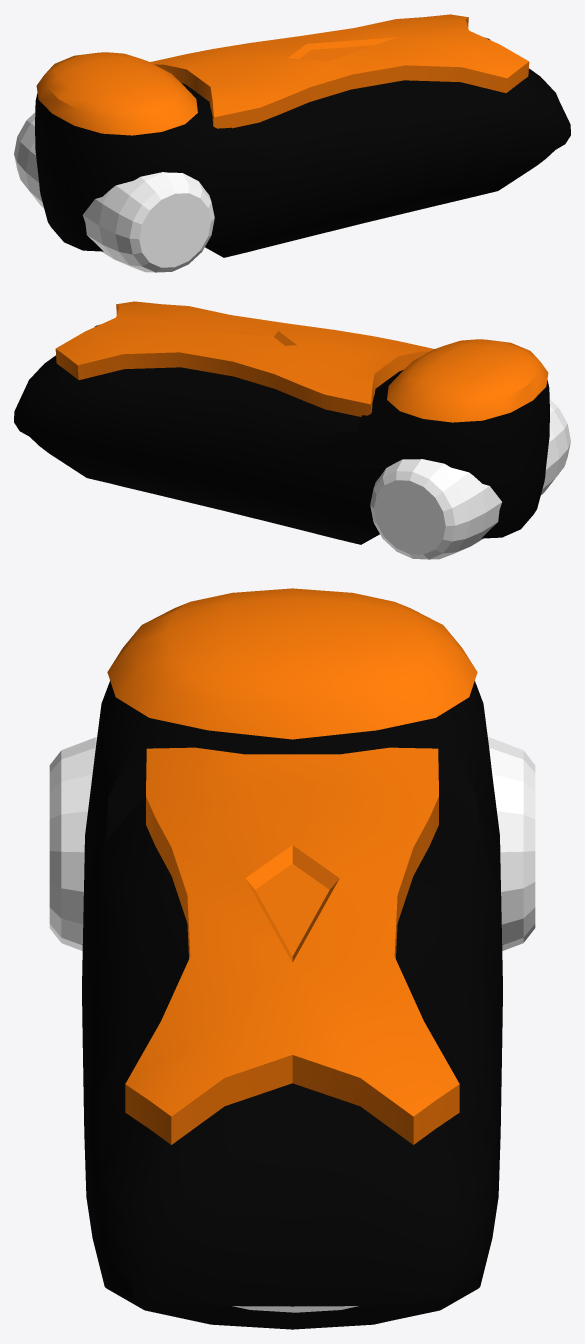
File: new_simHand_id22.fbx
3 views of the same model, one above another, from view 1: azimuth 30°, elevation 25°; view 2: azimuth 150°, elevation 25°; view 3: azimuth 270°, elevation 25° (orthographic). The views are drawn at different scales.
Visible parts, largest first — view 1: Cube.008, Cylinder.002; view 2: Cube.008, Cylinder.002; view 3: Cube.008, Cylinder.002.
Part boxes in pixels (x1,y1,x2,y2): Cube.008: (35, 14, 570, 257); Cylinder.002: (14, 112, 214, 272); Cube.008: (14, 301, 549, 544); Cylinder.002: (370, 399, 570, 559); Cube.008: (82, 588, 502, 1329); Cylinder.002: (49, 737, 535, 950).
Size of the model in its own units: 87.01 by 33.86 by 37.6.
